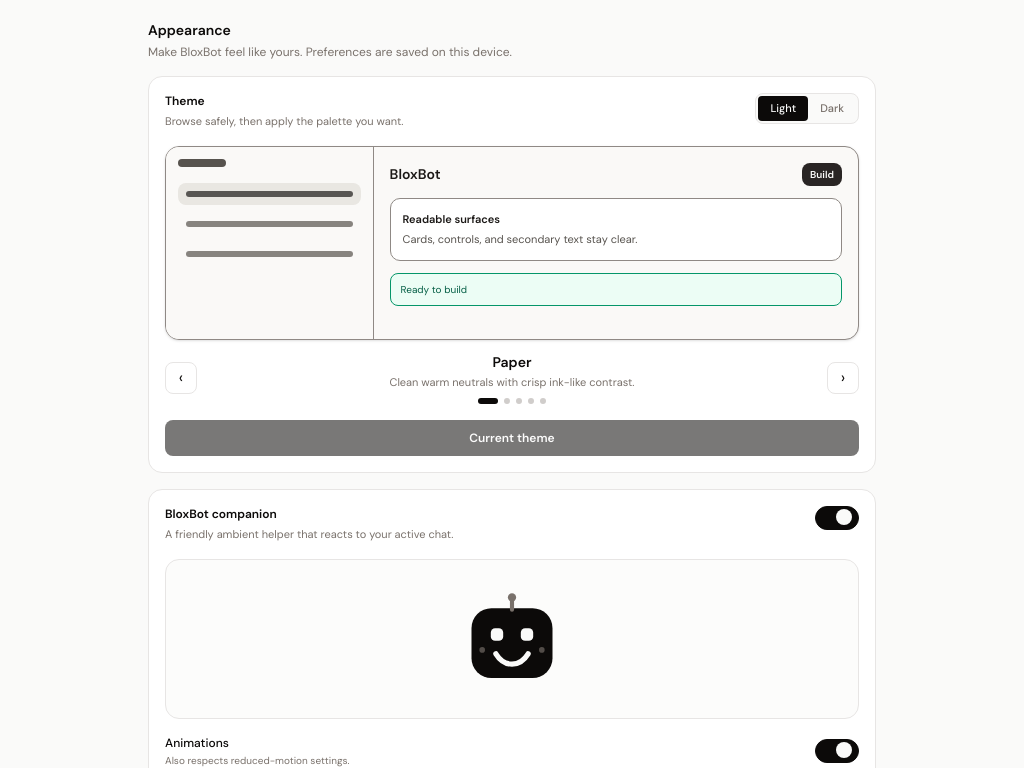
it: Appearance settings › filters to dark themes and supports keyboard carousel navigation
This screenshot has width=1024, height=768.
Click the button "dark" at (832, 108), box [808,96,856,120]
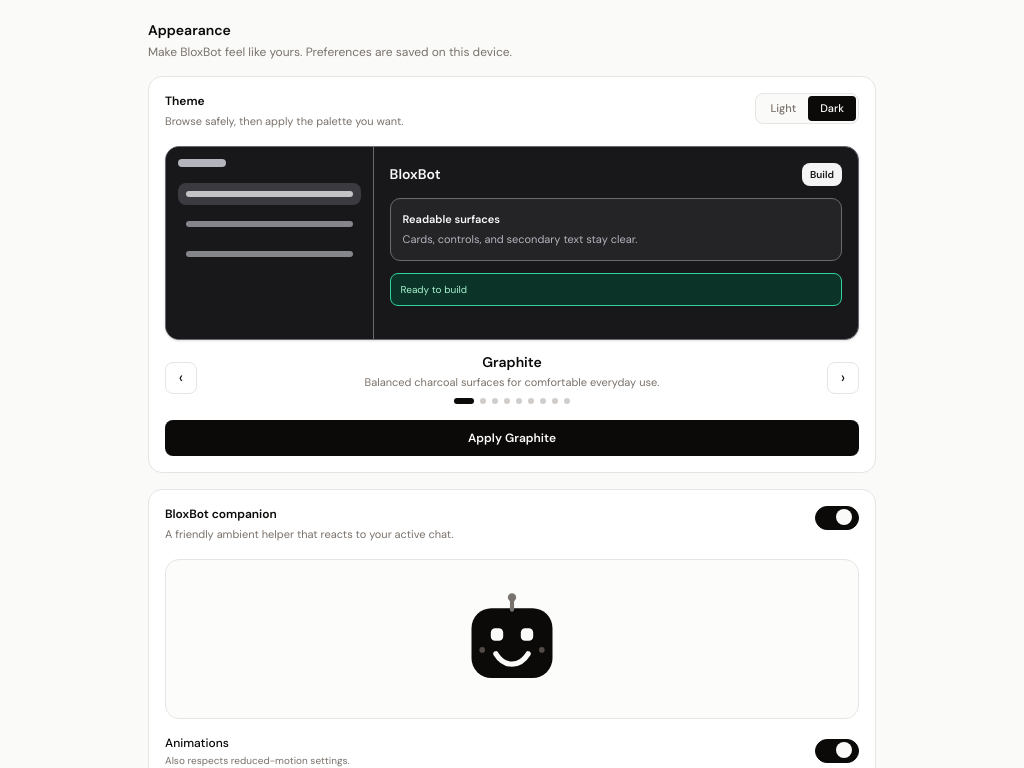
Expected: the text "Graphite" is shown, [482,352,542,370]
Press ArrowRight in the element named "dark theme carousel", box [165,146,859,340]
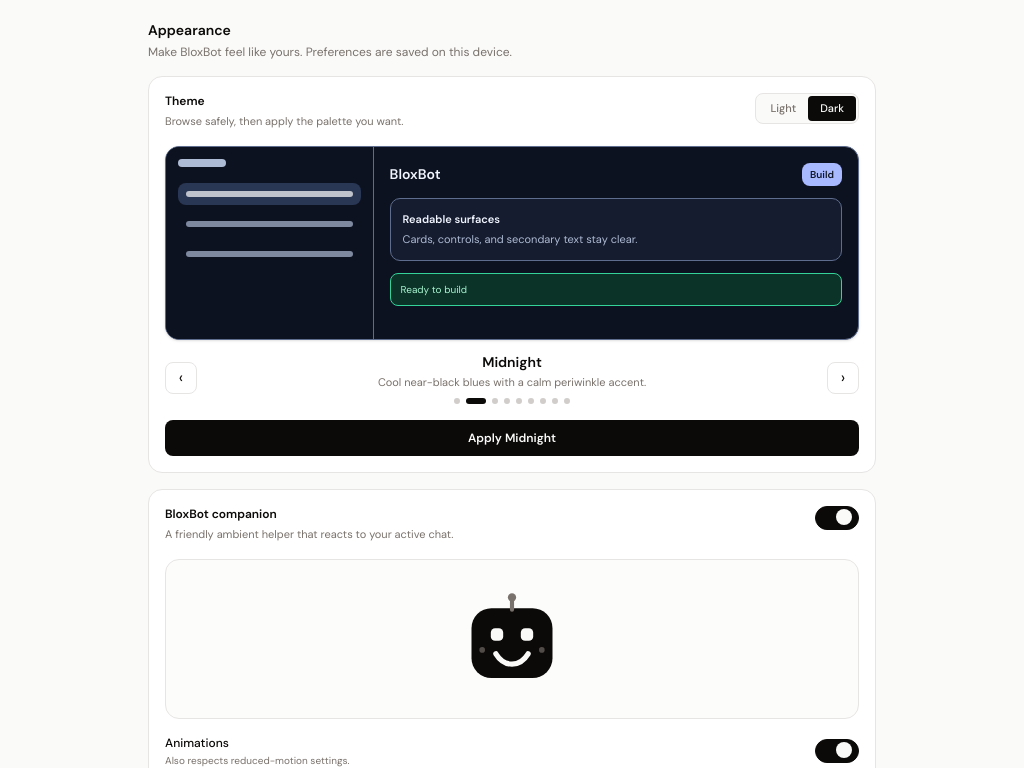
Expected: the text "Midnight" is shown, [482,352,542,370]
